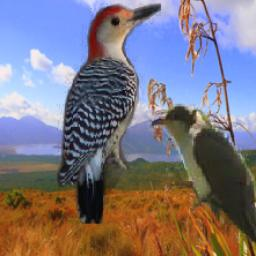Cuckoo: (146, 104, 256, 256)
Woodpecker: (57, 5, 161, 225)
